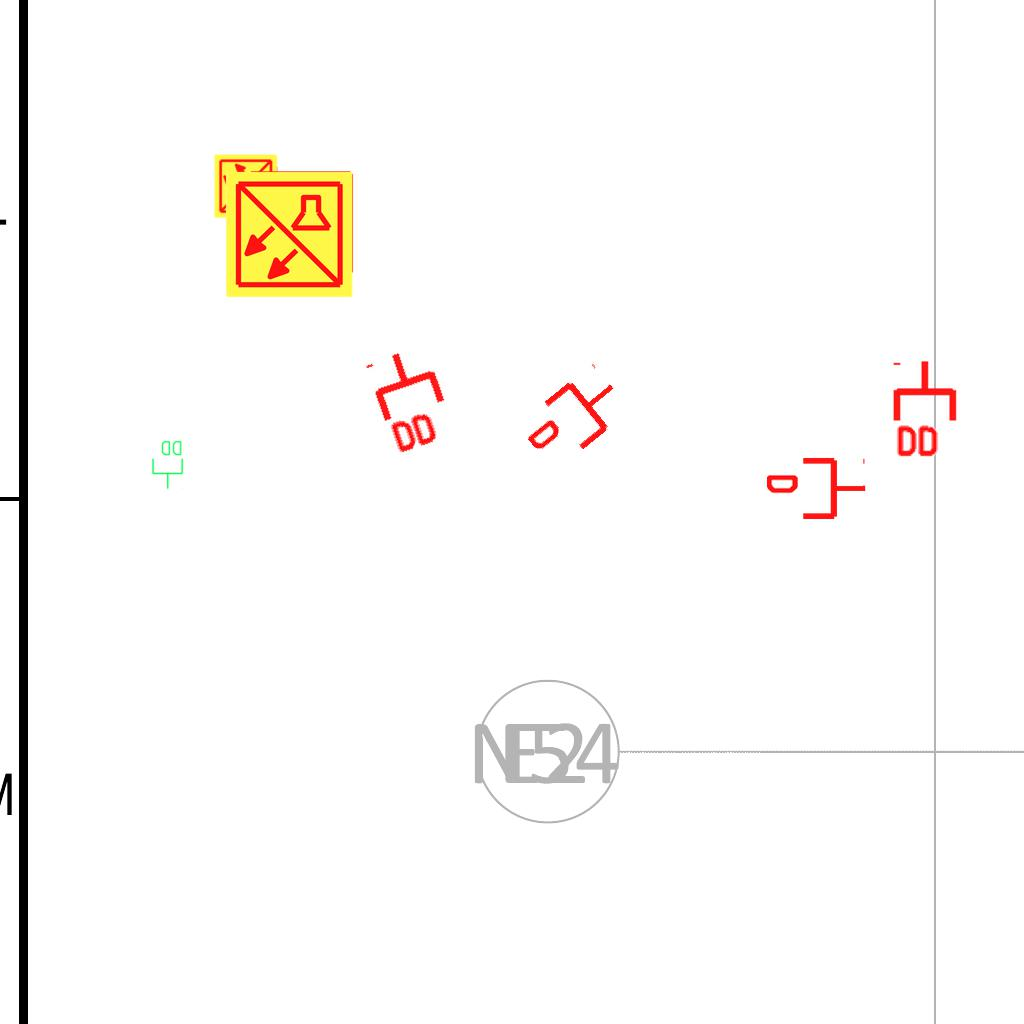Datenanschluss_einfach: (513, 358, 636, 476), (767, 454, 867, 523)
Datenanschluss_zweifach: (363, 339, 462, 460), (892, 358, 961, 461), (151, 439, 185, 490)
OKW_Multisensormelder_(Kombination_optischer_Rauch-Kahlenmonoxid_Waerme-Melder): (223, 168, 355, 300), (213, 153, 279, 219)
